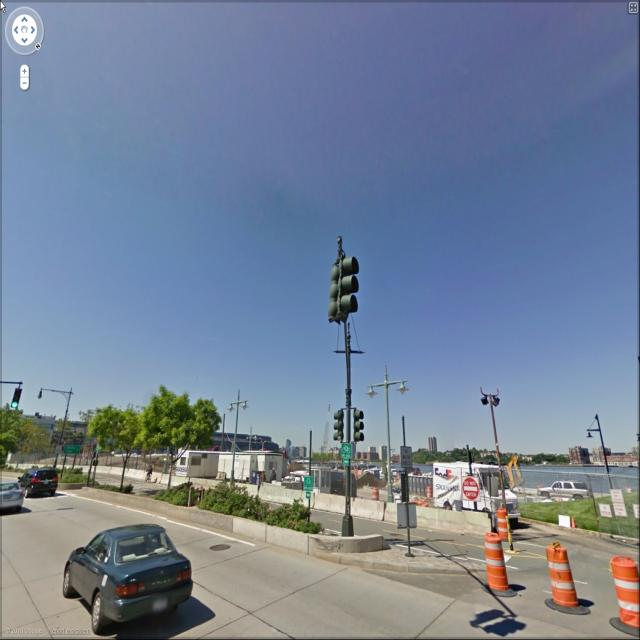b_1: (565, 441, 591, 471), (590, 441, 610, 464), (427, 432, 442, 459)
b_2: (167, 414, 284, 462)
